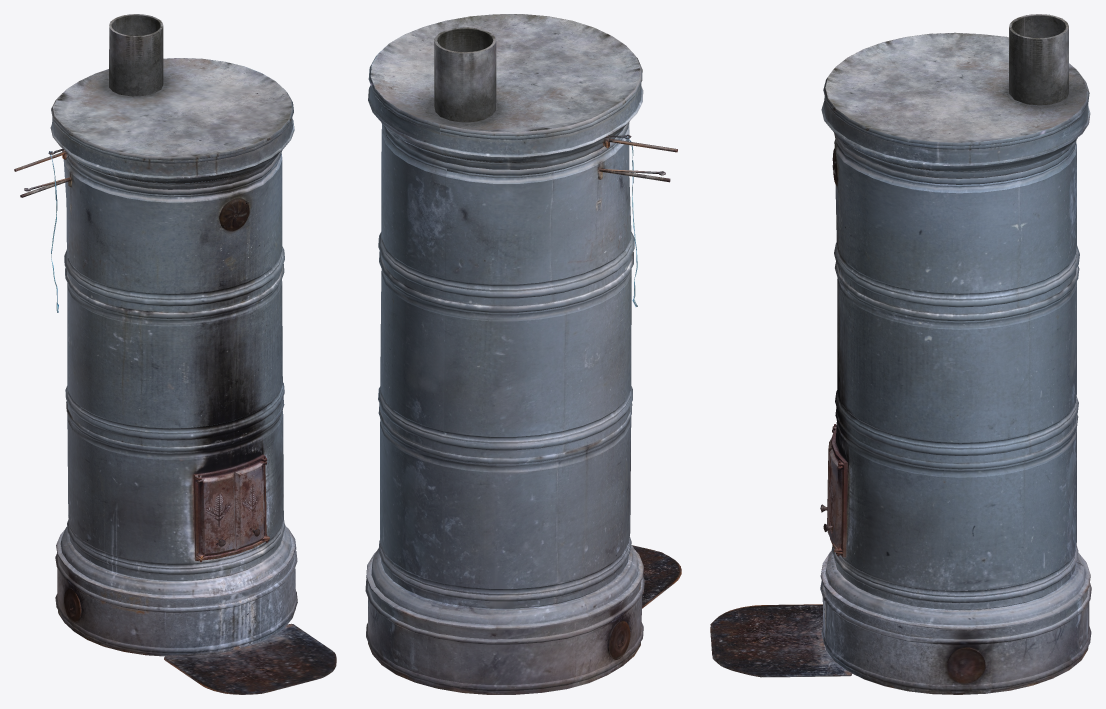
File: scandinavian_masonry_heater.glb
3 renders of one model, left to right at view 1: azimuth 30°, elevation 25°; view 2: azimuth 150°, elevation 25°; view 3: azimuth 270°, elevation 25°, orthographic. The views are drawn at different scales.
Visible parts, largest first — view 1: scandinavian_masonry_heater; view 2: scandinavian_masonry_heater; view 3: scandinavian_masonry_heater.
Boxes of the visible parts, x1,y1,x2,y2 form: scandinavian_masonry_heater: (14,14,336,694); scandinavian_masonry_heater: (365,14,681,694); scandinavian_masonry_heater: (710,14,1091,694).
Bounding box in the file's own units: 1.17 × 2.36 × 1.34.
Materials: 1 (1 with a texture image).
